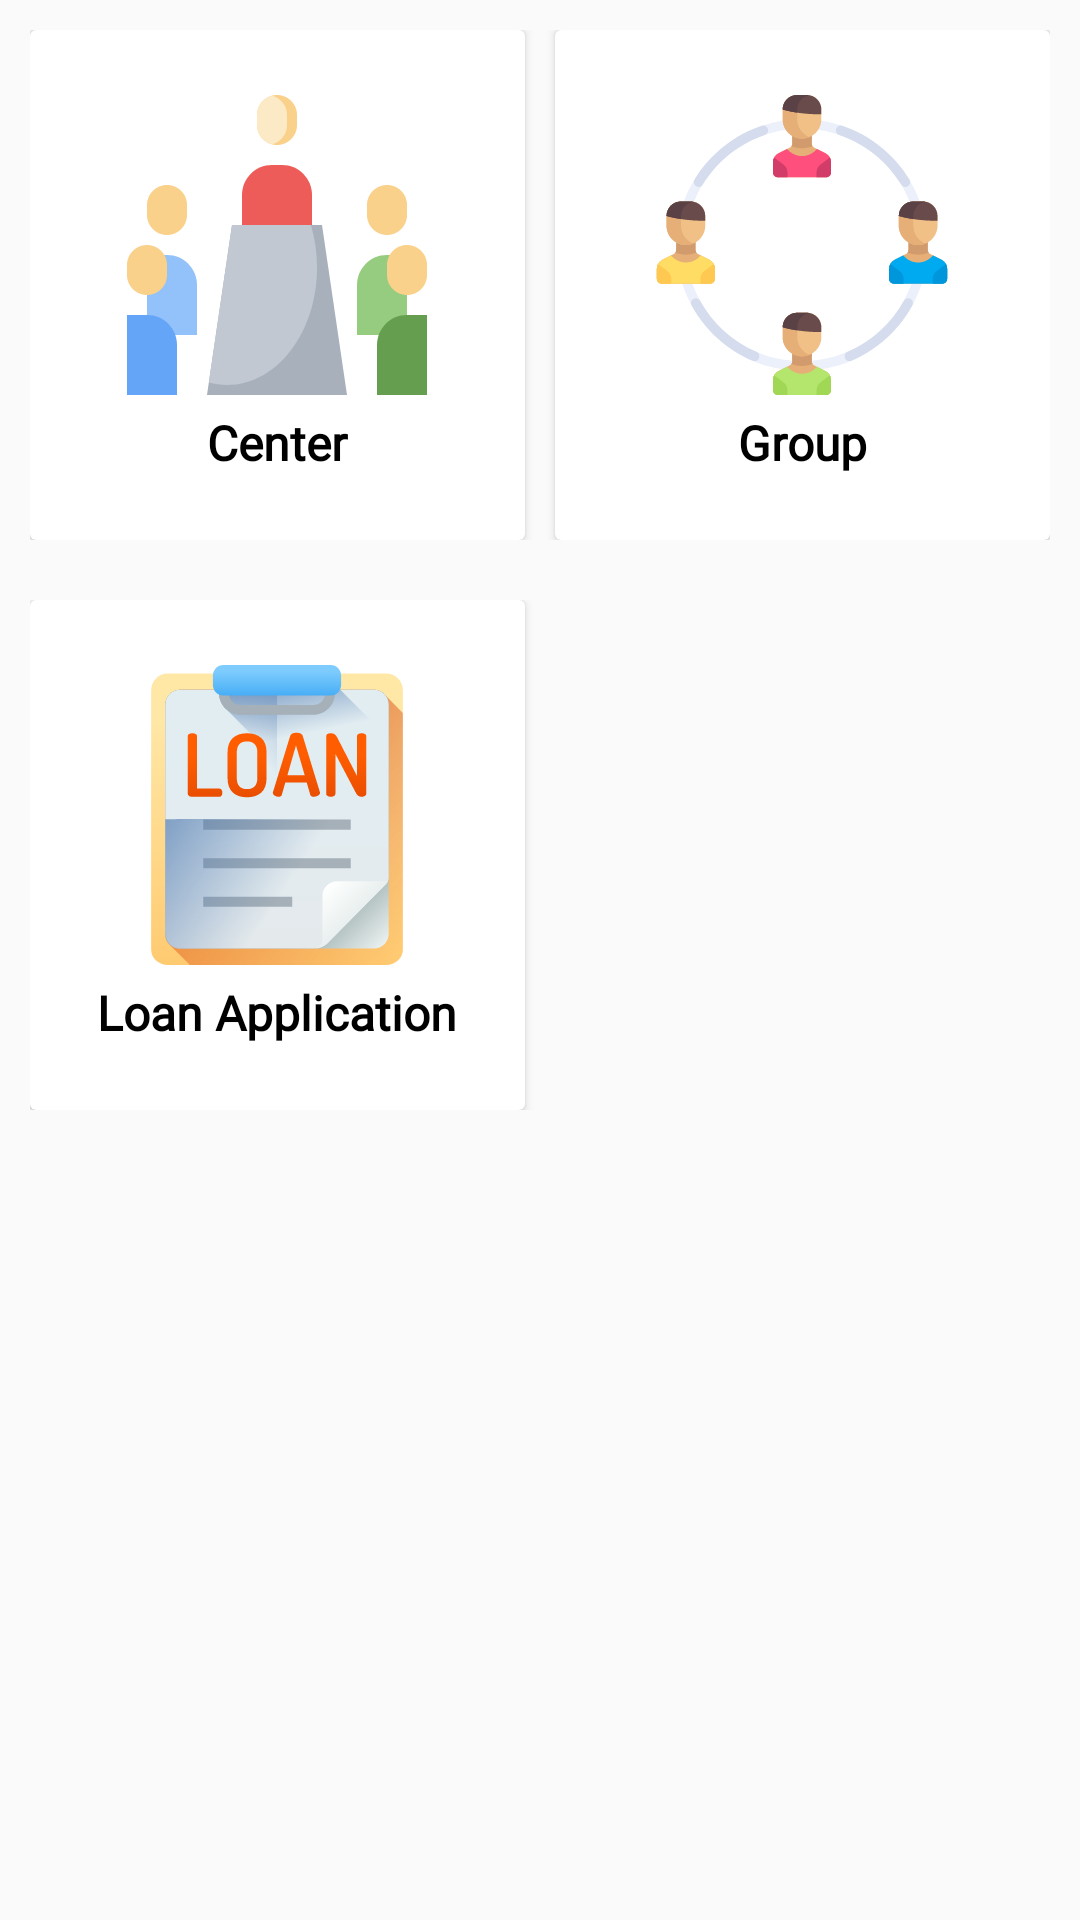

Screen size 1080px×1920px. Icon name, then its box in pixels as (x1, y1, x2, y2):
teamwork: (656, 95, 948, 395)
